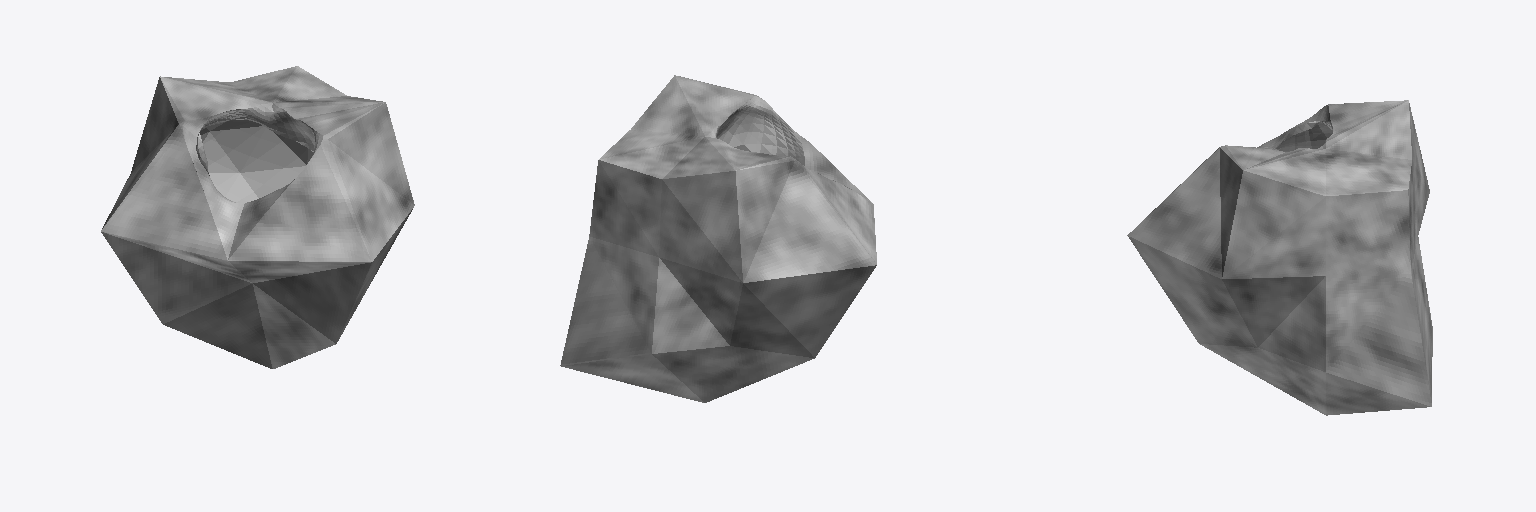
3 renders of one model, left to right at view 1: azimuth 30°, elevation 25°; view 2: azimuth 150°, elevation 25°; view 3: azimuth 270°, elevation 25°, orthographic.
Visible parts, largest first — view 1: asteroid1_asteroid.001; view 2: asteroid1_asteroid.001; view 3: asteroid1_asteroid.001.
Part boxes in pixels (left/top/right/bottom): asteroid1_asteroid.001: left=101, top=66, right=414, bottom=368; asteroid1_asteroid.001: left=560, top=75, right=876, bottom=402; asteroid1_asteroid.001: left=1127, top=100, right=1432, bottom=415.
Bounding box in the file's own units: 1.36 × 1.38 × 1.36.
Materials: 1 (1 with a texture image).